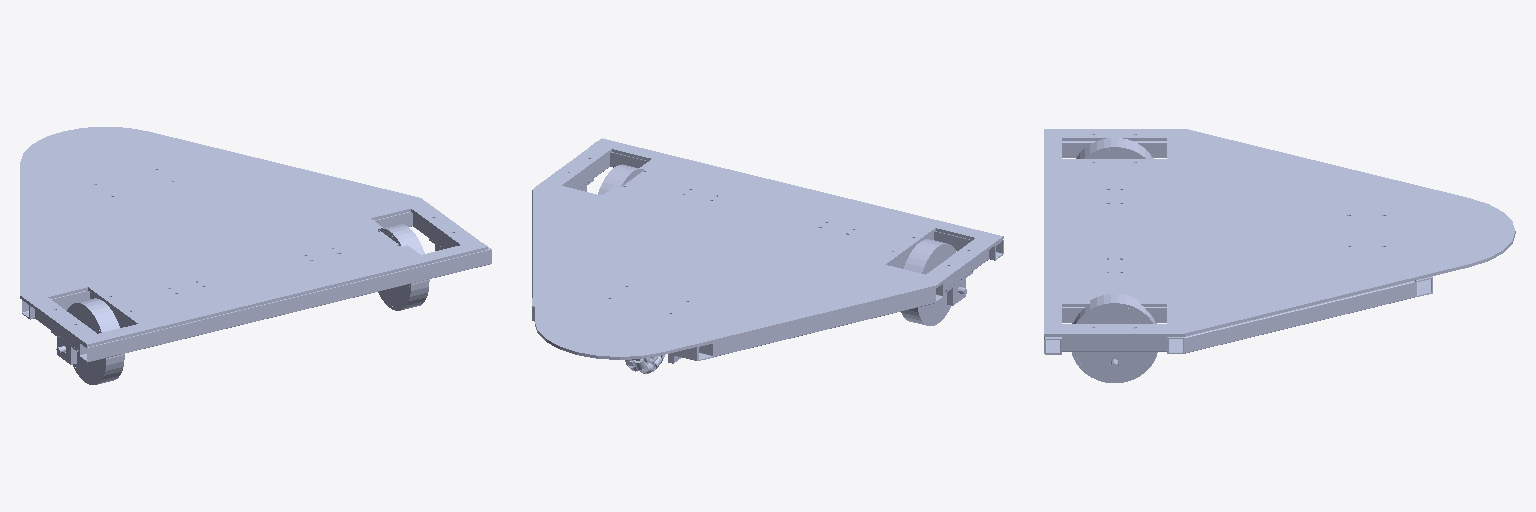
URDF robot description (Assem3):
<robot
  name="Assem3">
  
  <link
    name="base_link">
    <inertial>
      <origin
        xyz="-0.0173703637765719 -0.083972658884426 0.0219928161189121"
        rpy="0 0 0" />
      <mass
        value="3.08355733081114" />
      <inertia
        ixx="0.0381106319924521"
        ixy="0.000185755842133526"
        ixz="6.48593340914147E-05"
        iyy="0.0373767392367536"
        iyz="-0.00242534547465654"
        izz="0.0736723009958129" />
    </inertial>
    <visual>
      <origin
        xyz="0 0 0"
        rpy="0 0 0" />
      <geometry>
        <mesh filename="package://robomuse_description/meshes/base_link.STL" />
      </geometry>
      <material
        name="">
        <color
          rgba="0.792156862745098 0.819607843137255 0.933333333333333 1" />
      </material>
    </visual>
    <collision>
      <origin
        xyz="0 0 0"
        rpy="0 0 0" />
      <geometry>
        <mesh filename="package://robomuse_description/meshes/base_link.STL" />
      </geometry>
    </collision>
  </link>
  <link
    name="rack">
    <inertial>
      <origin
        xyz="0.0113468360138427 0.153672754023583 -0.596902035828217"
        rpy="0 0 0" />
      <mass
        value="2.71058387968739" />
      <inertia
        ixx="0.0488757513758698"
        ixy="-2.9062650587974E-12"
        ixz="-4.41643255396988E-08"
        iyy="0.0209897757175276"
        iyz="2.96944354146145E-12"
        izz="0.0343841550155248" />
    </inertial>
    <visual>
      <origin
        xyz="0 0 0"
        rpy="0 0 0" />
      <geometry>
        <mesh filename="package://robomuse_description/meshes/rack.STL" />
      </geometry>
      <material
        name="">
        <color
          rgba="0.792156862745098 0.819607843137255 0.933333333333333 1" />
      </material>
    </visual>
    <collision>
      <origin
        xyz="0 0 0"
        rpy="0 0 0" />
      <geometry>
        <mesh filename="package://robomuse_description/meshes/rack.STL" />
      </geometry>
    </collision>
  </link>
  <joint
    name="joint1"
    type="fixed">
    <origin
      xyz="0.579240620443926 -0.23080485415115 0.125561022602631"
      rpy="1.5707963267949 -6.12303176911189E-17 1.5707963267949" />
    <parent
      link="base_link" />
    <child
      link="rack" />
    <axis
      xyz="0 0 0" />
  </joint>
  <link
    name="castor">
    <inertial>
      <origin
        xyz="-8.10958706770615E-07 1.89768468713408E-07 0.0152499990049085"
        rpy="0 0 0" />
      <mass
        value="0.124266885600902" />
      <inertia
        ixx="5.37193562572023E-05"
        ixy="-3.25350678641941E-14"
        ixz="2.00035805571769E-10"
        iyy="5.37193561258658E-05"
        iyz="8.54508970590813E-10"
        izz="9.43751560322453E-05" />
    </inertial>
    <visual>
      <origin
        xyz="0 0 0"
        rpy="0 0 0" />
      <geometry>
        <mesh filename="package://robomuse_description/meshes/castor.STL" />
      </geometry>
      <material
        name="">
        <color
          rgba="0.792156862745098 0.819607843137255 0.933333333333333 1" />
      </material>
    </visual>
    <collision>
      <origin
        xyz="0 0 0"
        rpy="0 0 0" />
      <geometry>
        <mesh filename="package://robomuse_description/meshes/castor.STL" />
      </geometry>
    </collision>
  </link>
  <joint
    name="joint2"
    type="continuous">
    <origin
      xyz="-0.000465815074997711 0.135457979579817 -0.0312045648735022"
      rpy="-1.5707963267949 -6.12303176911189E-17 1.5707963267949" />
    <parent
      link="base_link" />
    <child
      link="castor" />
    <axis
      xyz="0 0 1" />
  </joint>
  <link
    name="wheel1">
    <inertial>
      <origin
        xyz="0 -0.015875 4.02736480981103E-06"
        rpy="0 0 0" />
      <mass
        value="0.399434057418048" />
      <inertia
        ixx="1.16422599155778E-12"
        ixy="0"
        ixz="-4.25083907545746E-25"
        iyy="1.16422599155778E-12"
        iyz="1.36026850415868E-23"
        izz="1.88511407451511E-34" />
    </inertial>
    <visual>
      <origin
        xyz="0 0 0"
        rpy="0 0 0" />
      <geometry>
        <mesh filename="package://robomuse_description/meshes/wheel_new.STL" />
      </geometry>
      <material
        name="">
        <color
          rgba="0.792156862745098 0.819607843137255 0.933333333333333 1" />
      </material>
    </visual>
    <collision>
      <origin
        xyz="0 0 0"
        rpy="0 0 0" />
      <geometry>
        <mesh filename="package://robomuse_description/meshes/wheel_new.STL" />
      </geometry>
    </collision>
  </link>
  <joint
    name="joint3"
    type="continuous">
    <origin
      xyz="-0.27973141538515 -0.224758018137308 -0.0152545648735021"
      rpy="1.5707963267949 1.5707963267949 0" />
    <parent
      link="base_link" />
    <child
      link="wheel1" />
    <axis
      xyz="0 -1 0" />
  </joint>
  <link
    name="wheel2">
    <inertial>
      <origin
        xyz="1.89084858881472E-16 -0.0158750000000001 4.02736480972776E-06"
        rpy="0 0 0" />
      <mass
        value="0.399434057418047" />
      <inertia
        ixx="1.16422599153058E-12"
        ixy="0"
        ixz="8.50167815076102E-25"
        iyy="1.16422599153058E-12"
        iyz="4.42441820199727E-40"
        izz="1.20200314373361E-36" />
    </inertial>
    <visual>
      <origin
        xyz="0 0 0"
        rpy="0 0 0" />
      <geometry>
        <mesh filename="package://robomuse_description/meshes/wheel_new.STL" />
      </geometry>
      <material
        name="">
        <color
          rgba="0.792156862745098 0.819607843137255 0.933333333333333 1" />
      </material>
    </visual>
    <collision>
      <origin
        xyz="0 0 0"
        rpy="0 0 0" />
      <geometry>
        <mesh filename="package://robomuse_description/meshes/wheel_new.STL" />
      </geometry>
    </collision>
  </link>
  <joint
    name="joint4"
    type="continuous">
    <origin
      xyz="0.248299785235154 -0.224758018137308 -0.0152545648735017"
      rpy="1.5707963267949 1.5707963267949 0" />
    <parent
      link="base_link" />
    <child
      link="wheel2" />
    <axis
      xyz="0 1 0" />
  </joint>
</robot>

--- Facts derived from the render (not from the file) ---
3 views of the same robot in one strip: view 1: azimuth 30°, elevation 25°; view 2: azimuth 150°, elevation 25°; view 3: azimuth 270°, elevation 25° (orthographic).
Model Assem3 with 5 links and 4 joints (3 continuous, 1 fixed), rooted at base_link, posed every joint at zero.
Links seen in each view (by area): view 1: base_link, wheel1, wheel2; view 2: base_link, wheel1, wheel2; view 3: base_link, wheel2, wheel1.
Boxes of the visible links, x1,y1,x2,y2 form: base_link: [20, 127, 491, 364]; wheel1: [67, 298, 124, 384]; wheel2: [378, 224, 429, 310]; base_link: [532, 138, 1003, 363]; wheel1: [901, 239, 955, 325]; wheel2: [598, 164, 643, 194]; base_link: [1044, 129, 1515, 374]; wheel2: [1072, 294, 1157, 382]; wheel1: [1076, 138, 1153, 158].
Size in the robot's own frame: 0.7 by 0.6737 by 0.1272 metres.
Meshes: 4 distinct files referenced, 4 mesh visuals loaded (3 binary STL); not drawn: 1 (reference not matched to a file when rendering).